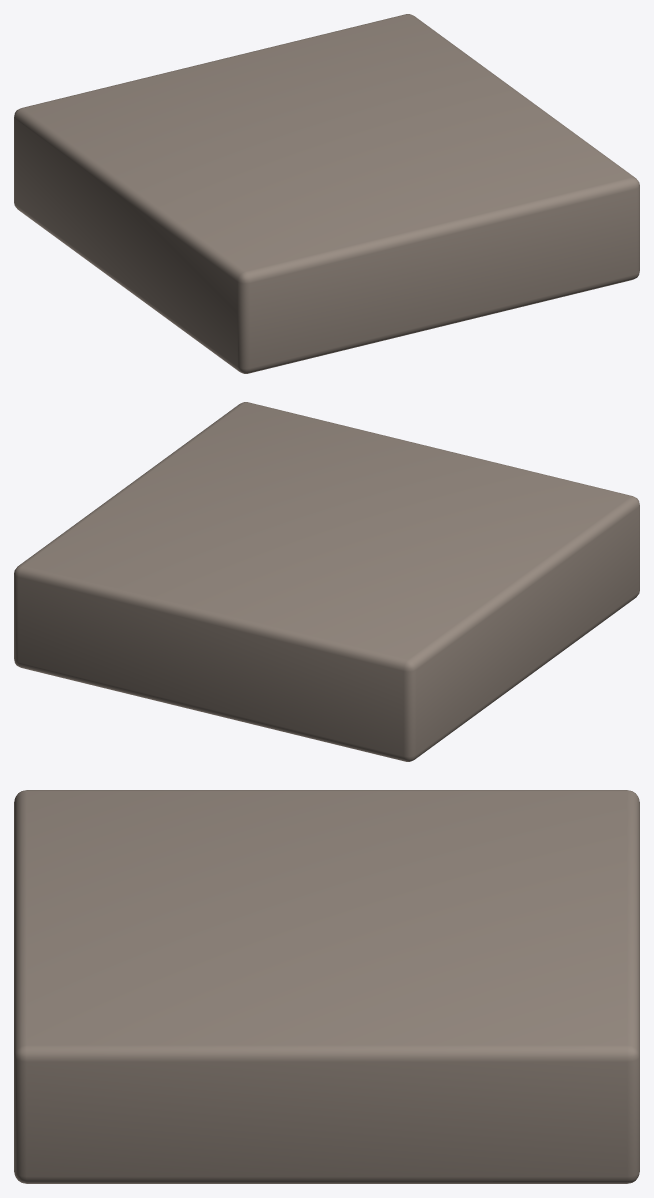
File: block_Black_bigger_GEO.fbx
3 renders of one model, top to bottom at view 1: azimuth 30°, elevation 25°; view 2: azimuth 150°, elevation 25°; view 3: azimuth 270°, elevation 25°, orthographic. The views are drawn at different scales.
Visible parts, largest first — view 1: block_Black_GEO; view 2: block_Black_GEO; view 3: block_Black_GEO.
Part boxes in pixels (x1,y1,x2,y2): block_Black_GEO: [14, 14, 639, 373]; block_Black_GEO: [14, 402, 639, 761]; block_Black_GEO: [14, 790, 639, 1183].
Size of the model in its own units: 124 by 30.06 by 124.
